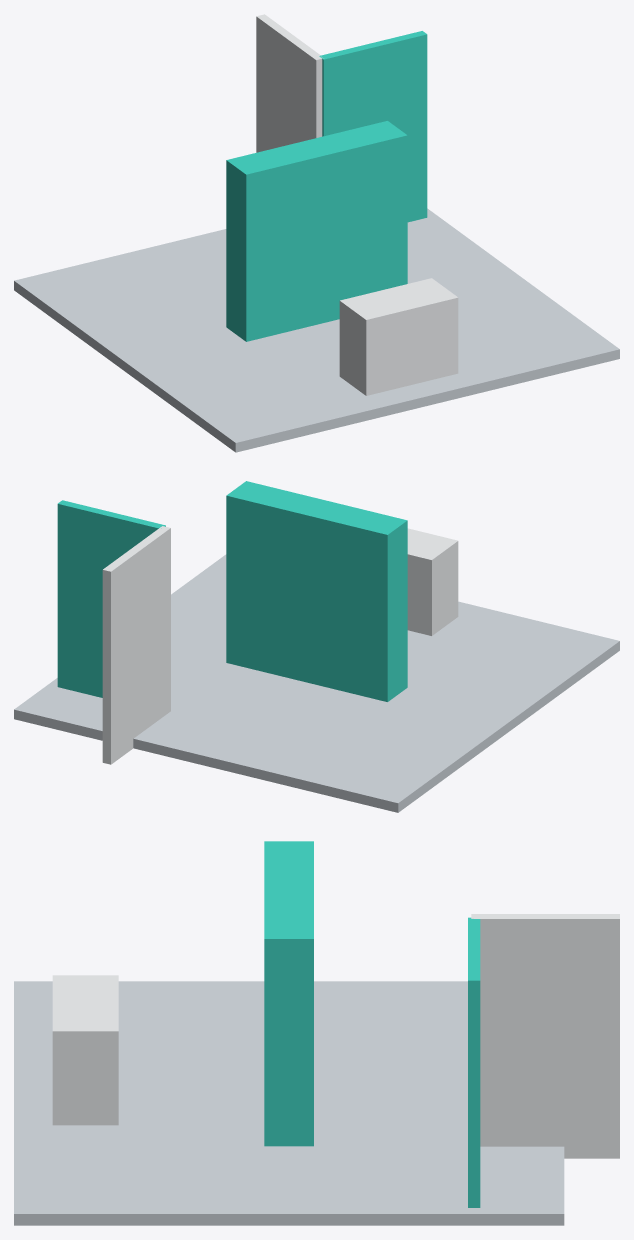
3 renders of one model, top to bottom at view 1: azimuth 30°, elevation 25°; view 2: azimuth 150°, elevation 25°; view 3: azimuth 270°, elevation 25°, orthographic. The views are drawn at different scales.
Parts seen in each view (by area): view 1: Exhibition Booth Concept; view 2: Exhibition Booth Concept; view 3: Exhibition Booth Concept.
Boxes of the visible parts, x1=… form: Exhibition Booth Concept: x1=14, y1=14, x2=619, y2=452; Exhibition Booth Concept: x1=14, y1=481, x2=619, y2=812; Exhibition Booth Concept: x1=14, y1=841, x2=619, y2=1225.
Size of the model in its own units: 5 by 2.4 by 5.51.
